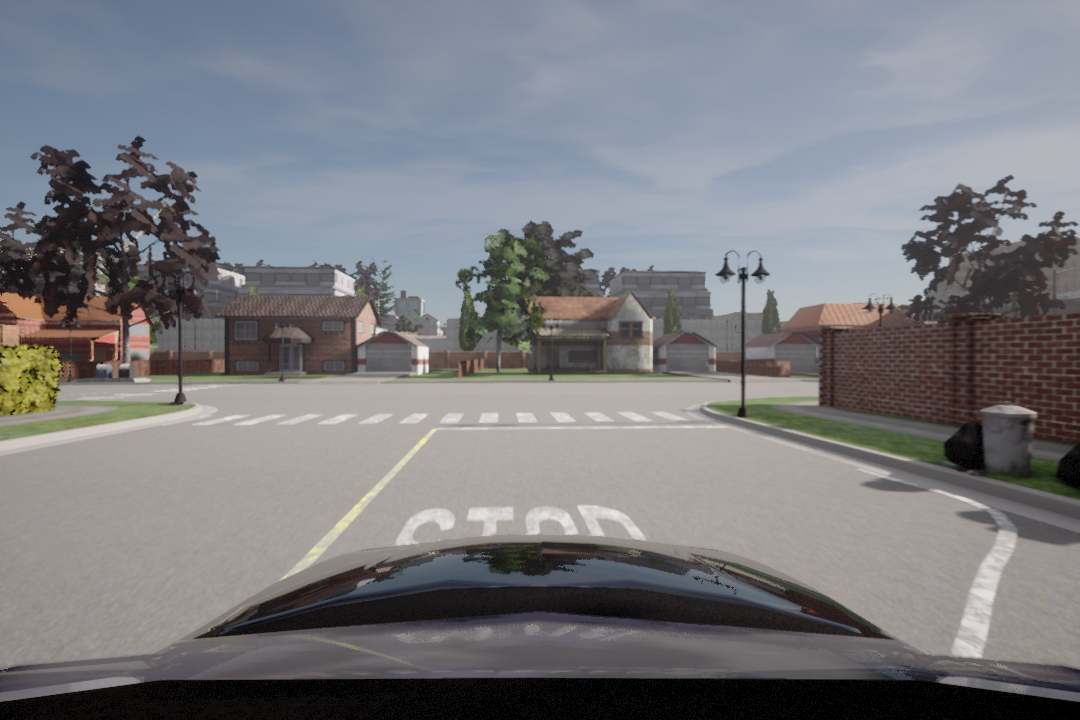walkside: (189, 407, 717, 432)
